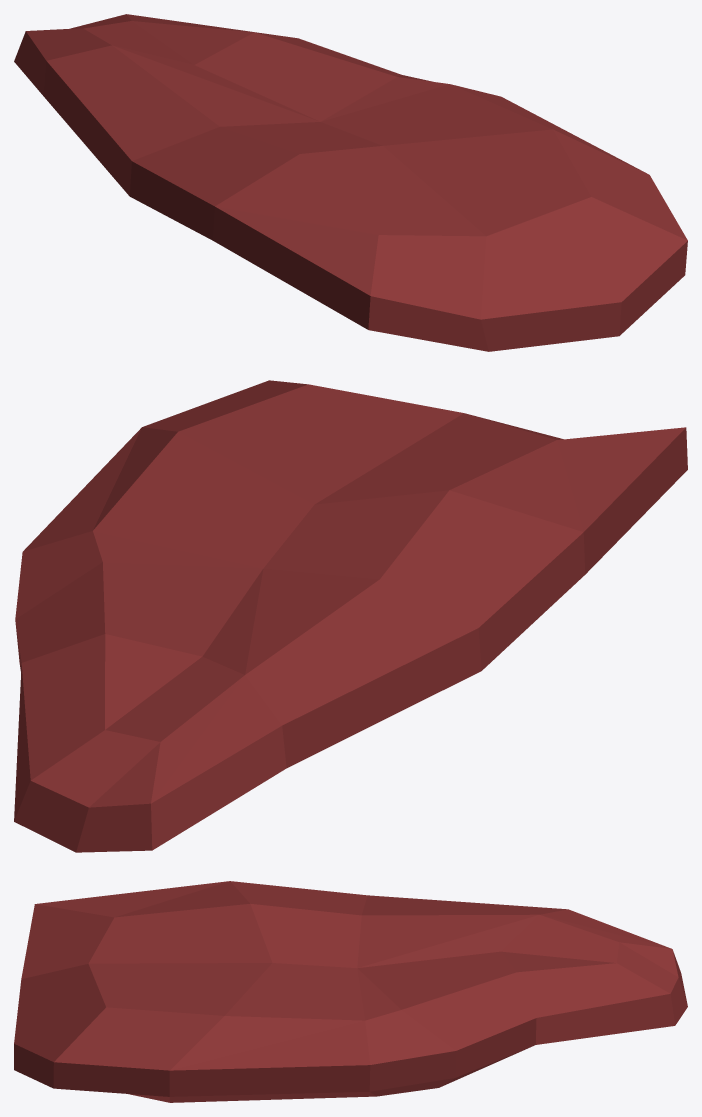
File: Beaf.fbx
3 views of the same model, one above another, from view 1: azimuth 30°, elevation 25°; view 2: azimuth 150°, elevation 25°; view 3: azimuth 270°, elevation 25° (orthographic). The views are drawn at different scales.
Parts seen in each view (by area): view 1: BeafMeat01; view 2: BeafMeat01; view 3: BeafMeat01.
Boxes of the visible parts, box(x1,y1,x2,y2) form: BeafMeat01: box(14, 14, 687, 351); BeafMeat01: box(14, 380, 687, 852); BeafMeat01: box(14, 881, 687, 1102).
Size of the model in its own units: 28.76 by 10 by 51.53.
